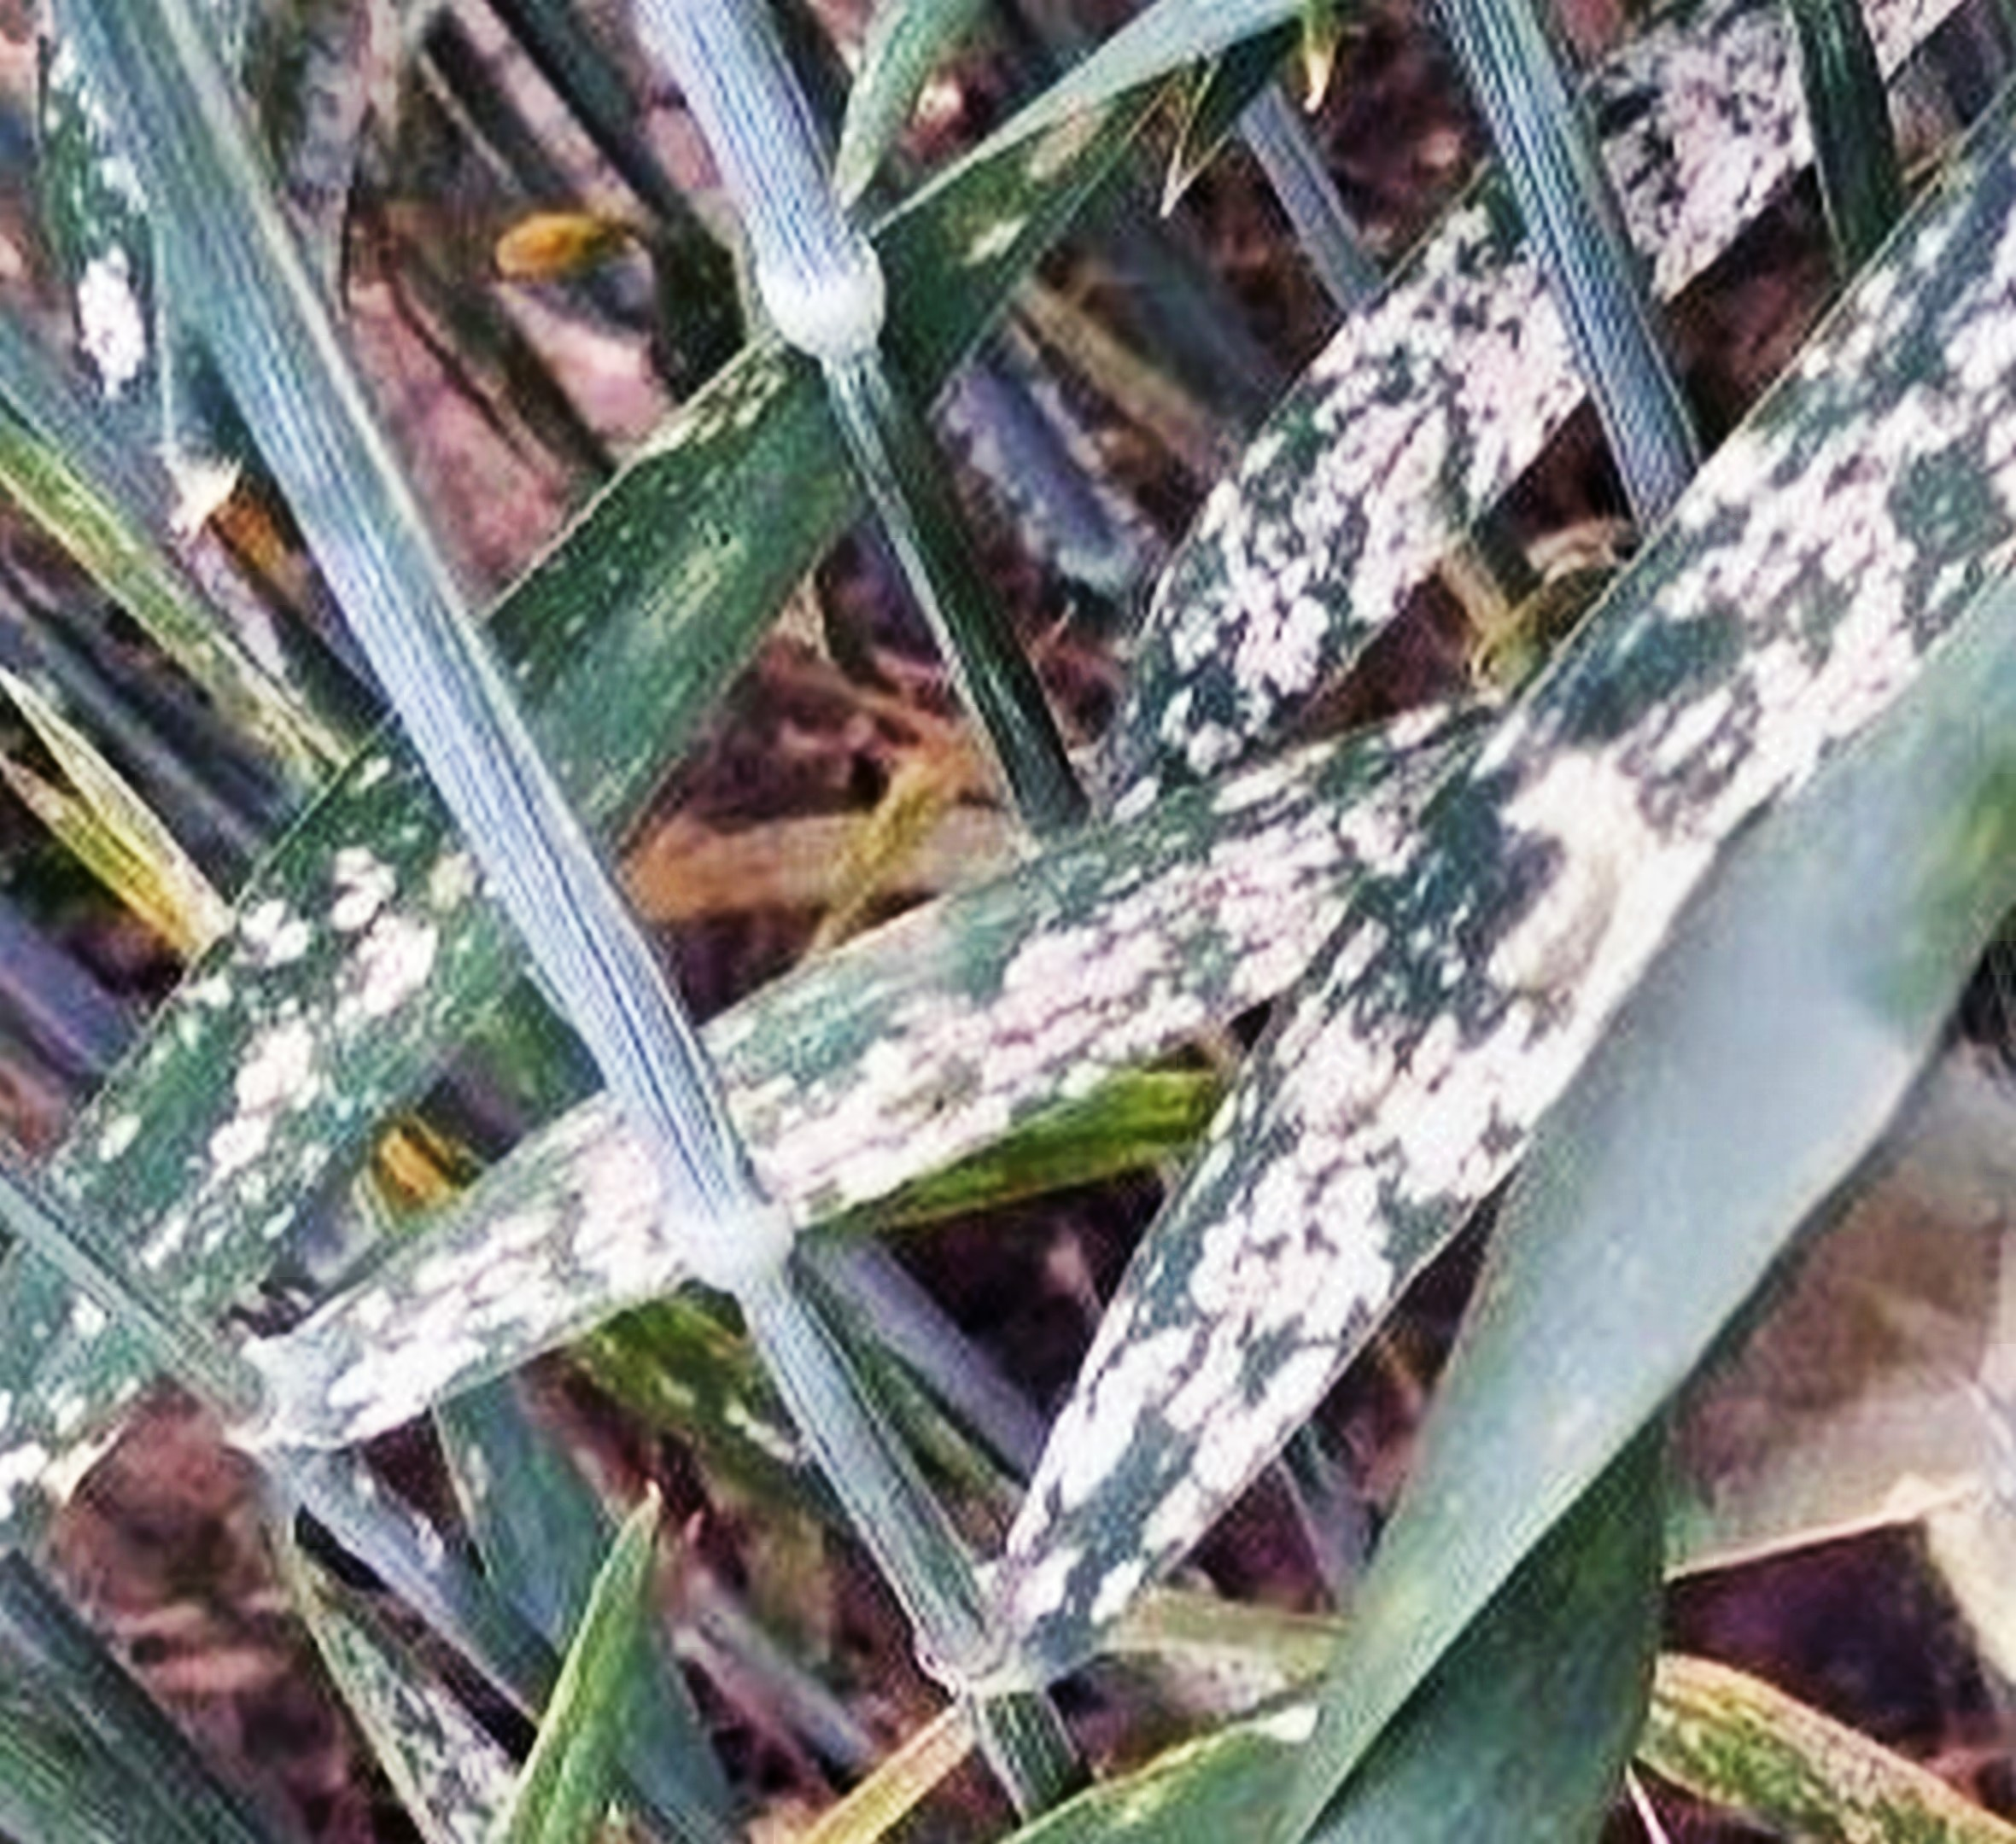Powdery Mildew: (1124, 33, 1826, 752), (989, 992, 1544, 1624), (63, 838, 515, 1296)
